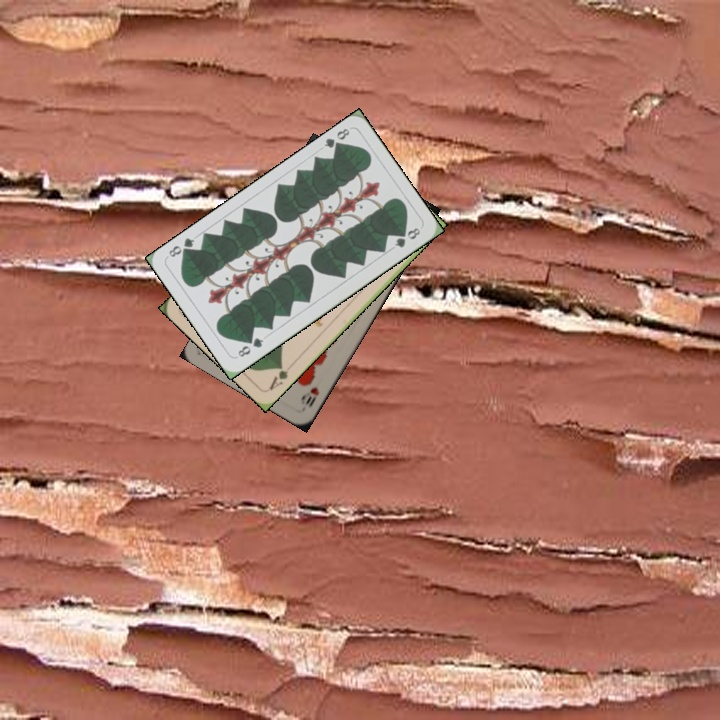G8: (320, 124, 352, 154), (234, 333, 266, 360)
GA: (265, 359, 296, 393)
H10: (297, 383, 322, 410)
